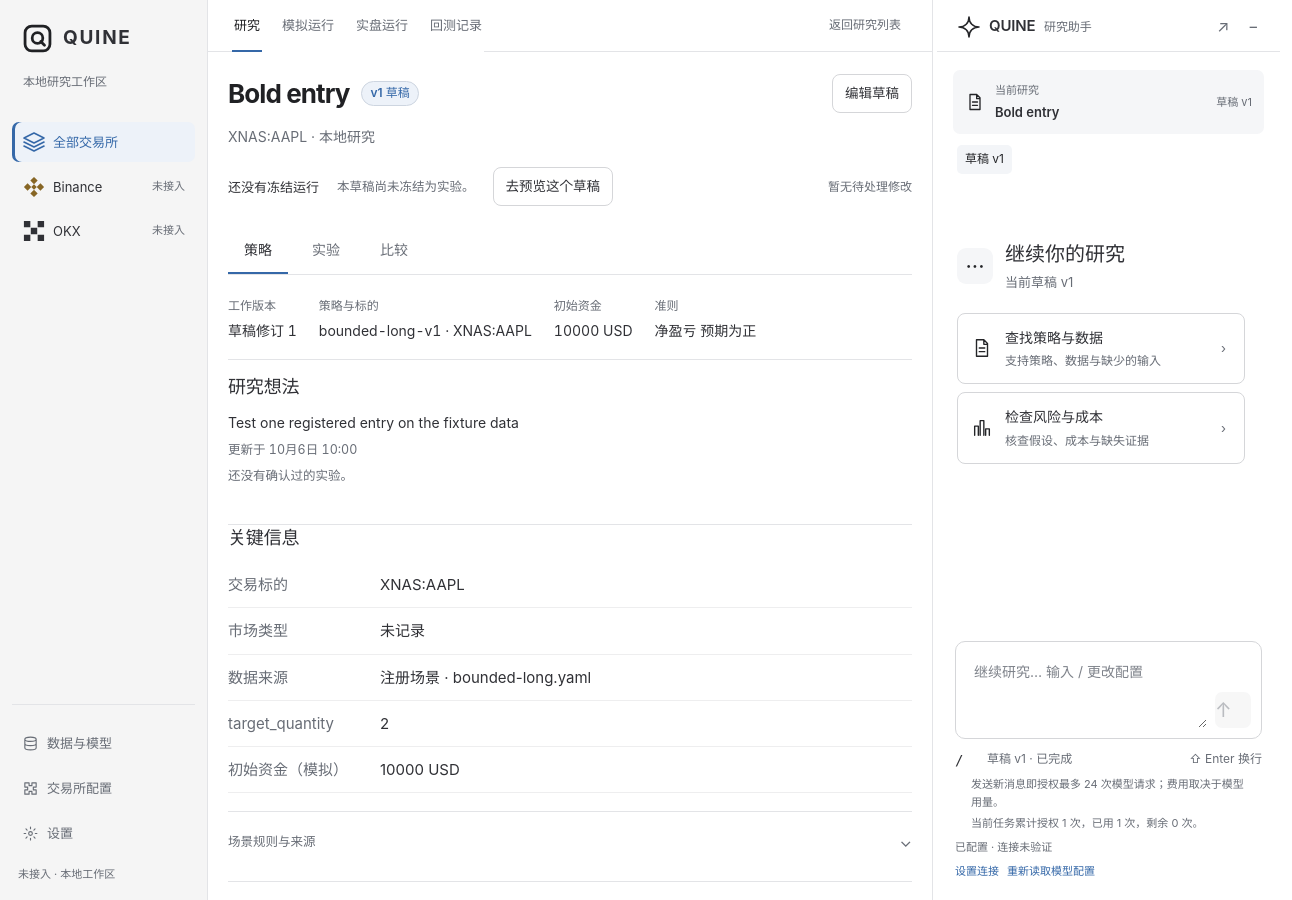
the streamed conversation panel › keeps a disconnected new turn unknown when the previous turn completed and reread fails
Type "请检查这次输入" into the text box named "消息". click: (1086,690)
box: [966,652,1207,728]
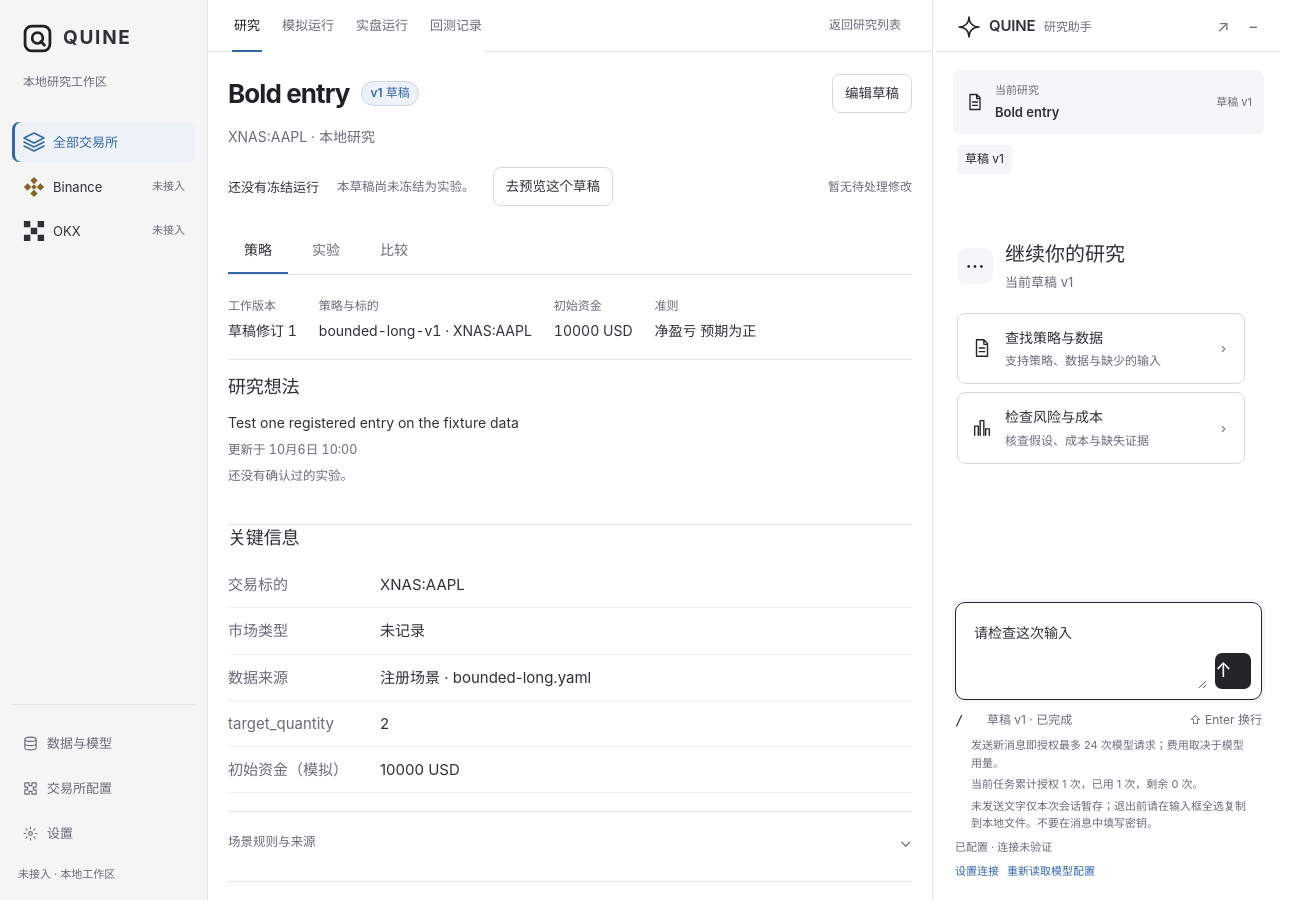
Click the button named "发送消息". click: (1233,671)
box: [1215,653,1251,689]
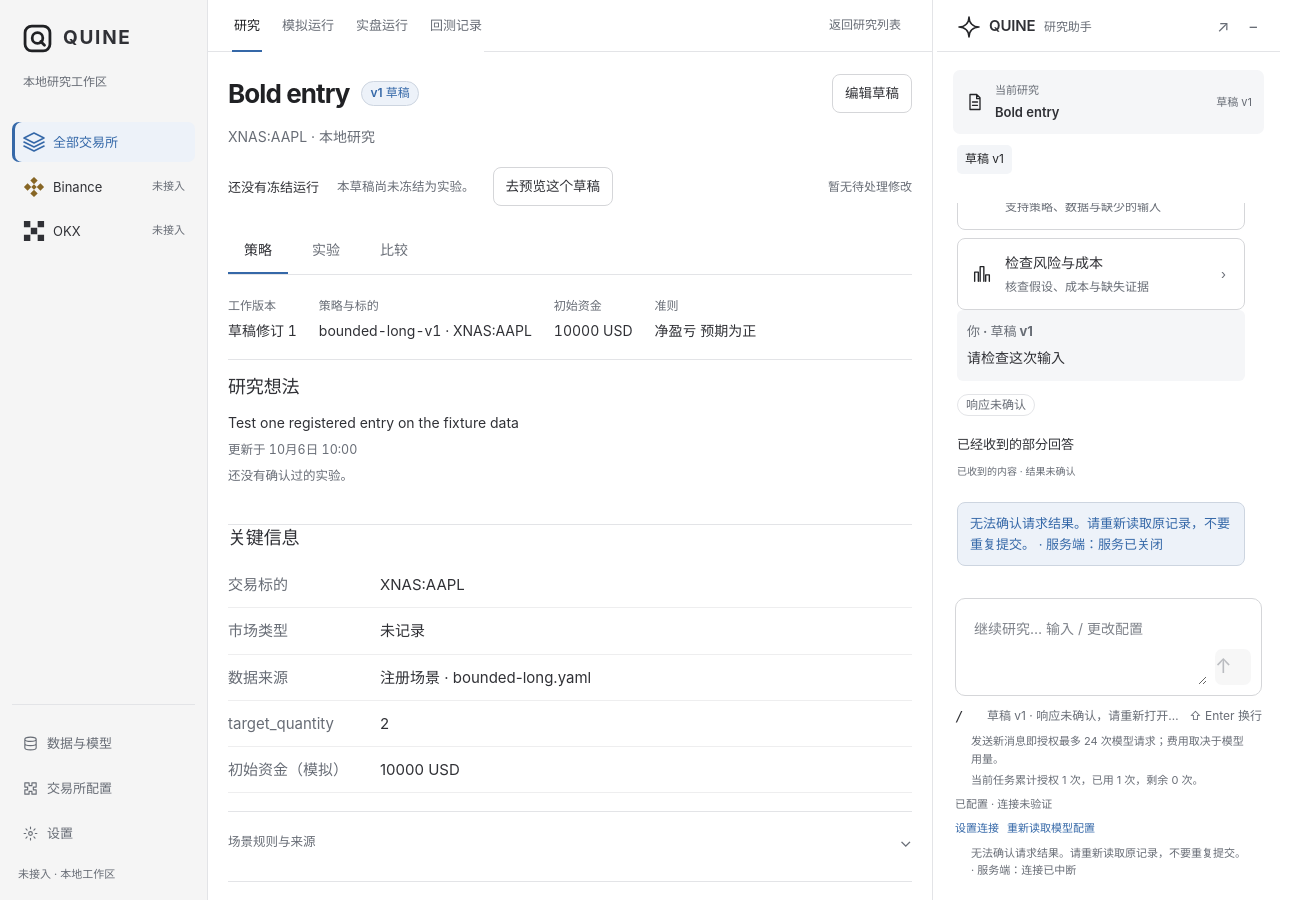
Expected: the text "草稿 v1 · 响应未确认，请重新打开研究核对；未自动重试" is shown, [987,707,1182,726]
Expected: the text "已经收到的部分回答" is shown, [957,436,1074,452]
Expected: the text "草稿 v1 · 已完成" is gone
